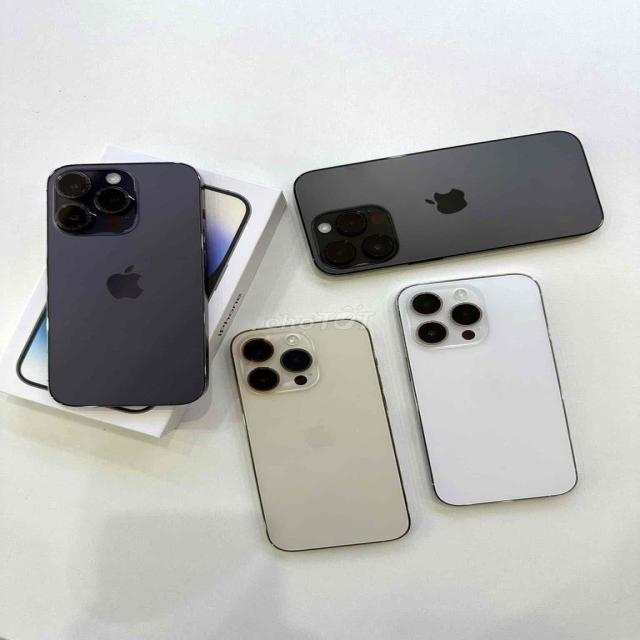gen_14: (400, 264, 585, 524), (46, 155, 214, 425), (233, 297, 404, 561)
